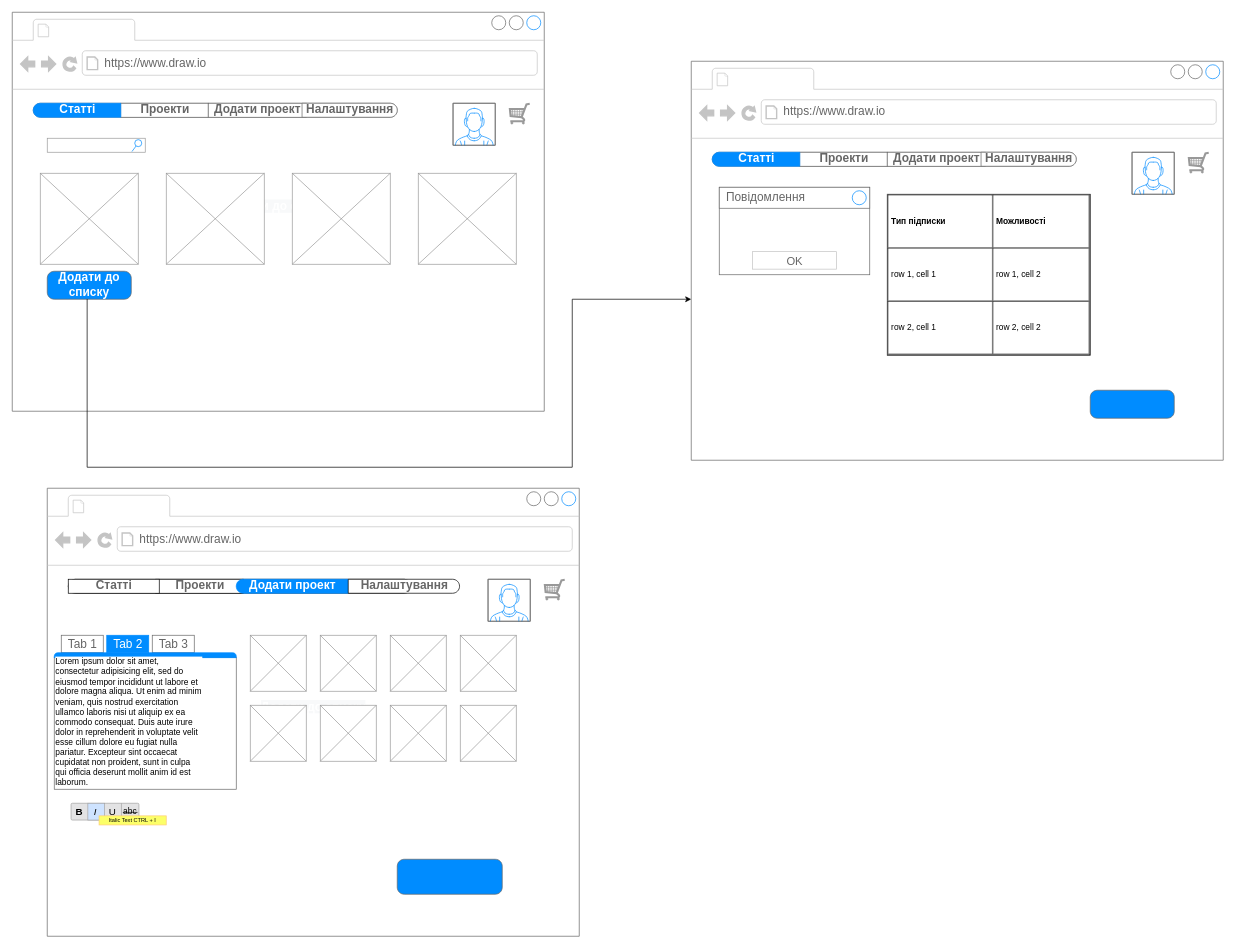
This 1236x949 diagram has some shape labels left out. Each missing label, with the centre of its shape:
"Search" goes at [96,145].
"Відправити" goes at [449,876].
"Для Вас була сформована унікальна підписка." goes at [794,231].
"Придбати" goes at [1132,404].
